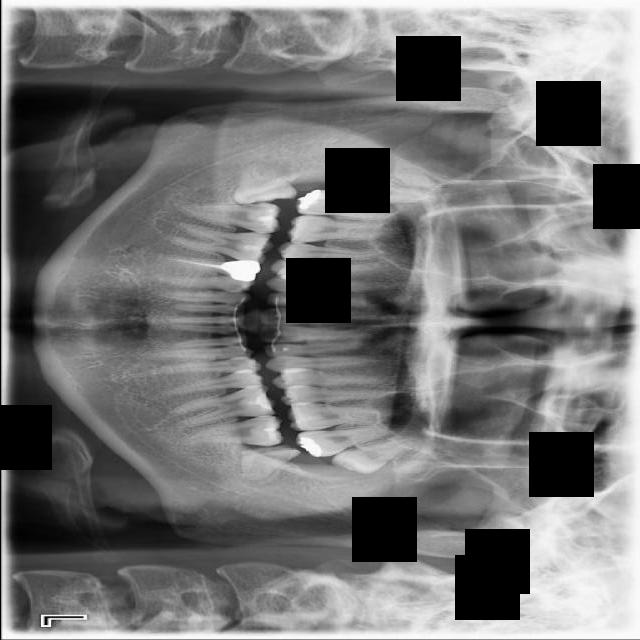3M ESPE Implant: (336, 173, 442, 205)
52: (226, 222, 278, 270), (241, 413, 285, 449), (294, 430, 349, 458), (231, 385, 276, 417), (293, 189, 345, 215), (239, 202, 281, 234), (219, 258, 260, 282), (238, 202, 259, 211), (229, 222, 242, 227)
73: (154, 252, 225, 274), (58, 597, 72, 603)
BioHorizons Implant: (294, 422, 405, 459)
BioLife Implant: (329, 435, 422, 480)
Biomet 3i Implant: (236, 443, 303, 483)
Blue Sky Bio Implant: (178, 413, 284, 454)
Caries: (293, 187, 396, 223)
Implant: (178, 200, 280, 234)
Keystone Dental Implant: (230, 158, 297, 205)
